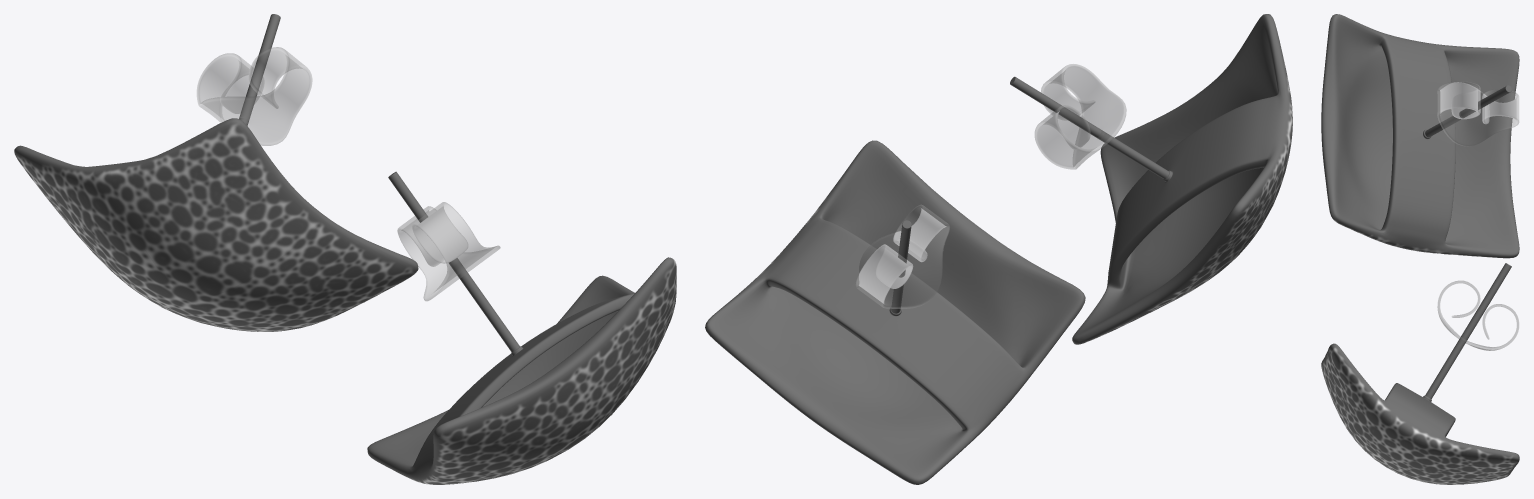
File: Aretes2.glb
3 renders of one model, left to right at view 1: azimuth 30°, elevation 25°; view 2: azimuth 150°, elevation 25°; view 3: azimuth 270°, elevation 25°, orthographic. The views are drawn at different scales.
Visible parts, largest first — view 1: 11764_EARINGS_V1_L3; view 2: 11764_EARINGS_V1_L3; view 3: 11764_EARINGS_V1_L3.
Boxes of the visible parts, x1,y1,x2,y2 form: 11764_EARINGS_V1_L3: (14,14,676,484); 11764_EARINGS_V1_L3: (705,14,1292,484); 11764_EARINGS_V1_L3: (1321,14,1519,484).
Bounding box in the file's own units: 3.03 × 2.4 × 1.22.
Materials: 2 (1 with a texture image).
